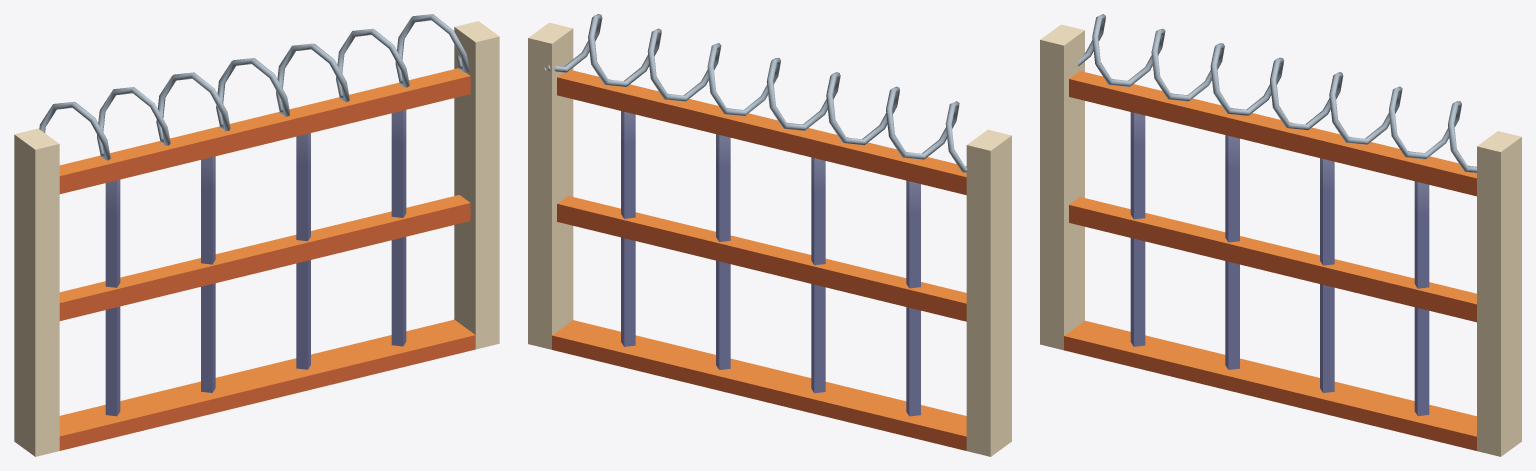
The model's file is PG_wall_cell_end.fbx.
The picture shows the model from 3 angles, left to right: view 1: azimuth 30°, elevation 25°; view 2: azimuth 150°, elevation 25°; view 3: azimuth 330°, elevation 25°; orthographic projection.
Parts seen in each view (by area): view 1: PG_wall_cell_end; view 2: PG_wall_cell_end; view 3: PG_wall_cell_end.
Part boxes in pixels (x1,y1,x2,y2): PG_wall_cell_end: (14,14,499,456); PG_wall_cell_end: (528,14,1011,456); PG_wall_cell_end: (1040,14,1521,456).
Bounding box in the file's own units: 3.16 × 2.19 × 0.4199.
